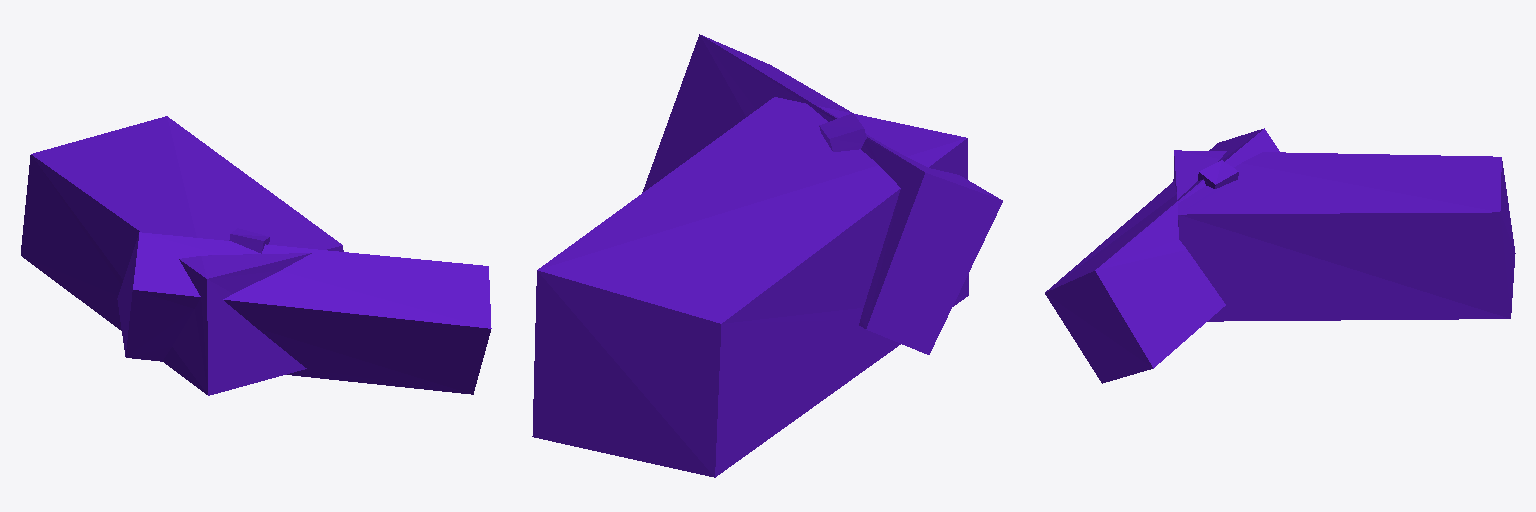
URDF robot description (blob599):

<robot name="blob599">
  <link name="random_obj_599">
    <contact>
      <lateral_friction value="1.0"/>
      <rolling_friction value="0.0"/>
      <inertia_scaling value="3.0"/>
      <contact_cfm value="0.0"/>
      <contact_erp value="1.0"/>
    </contact>
    <inertial>
      <origin rpy="0 0 0" xyz="0 0 0"/>
      <mass value="0.0574"/>
      <inertia ixx="1" ixy="0" ixz="0" iyy="1" iyz="0" izz="0"/>
    </inertial>
    <visual>
      <origin rpy="0 0 0" xyz="0 0 0"/>
      <geometry>
        <mesh filename="599.obj" scale="0.0086 0.0086 0.0086"/>
      </geometry>
      <material name="blockmat">
        <color rgba="0.41 0.14 0.81 1"/>
      </material>
    </visual>
    <collision>
      <origin rpy="0 0 0" xyz="0 0 0"/>
      <geometry>
        <mesh filename="599_coll.obj" scale="0.0086 0.0086 0.0086"/>
      </geometry>
    </collision>
  </link>
</robot>

--- Facts derived from the render (not from the file) ---
The picture shows the robot from 3 angles, left to right: view 1: azimuth 30°, elevation 25°; view 2: azimuth 150°, elevation 25°; view 3: azimuth 270°, elevation 25°; orthographic projection.
Model blob599 with 1 links and 0 joints (none), rooted at random_obj_599, posed every joint at zero.
Visible links, largest first — view 1: random_obj_599; view 2: random_obj_599; view 3: random_obj_599.
Link boxes in pixels (box(x1,y1,x2,y2)): random_obj_599: box(21, 116, 491, 395); random_obj_599: box(532, 34, 1002, 477); random_obj_599: box(1045, 128, 1515, 383).
Size in the robot's own frame: 0.1015 by 0.1495 by 0.0508 metres.
Meshes: 1 distinct files referenced, 1 mesh visuals loaded (1 OBJ).
